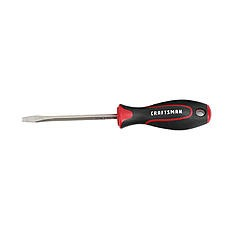screwdriver: (20, 95, 214, 131)
